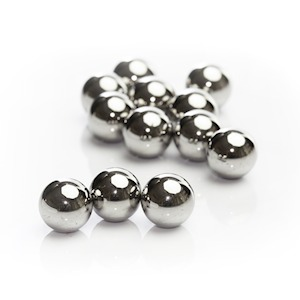ironball: (140, 172, 195, 228), (38, 177, 93, 232), (89, 166, 141, 222), (121, 105, 172, 158), (206, 127, 257, 179), (173, 108, 220, 162), (87, 90, 135, 142), (185, 64, 230, 107), (80, 73, 127, 113), (129, 75, 175, 108), (170, 87, 217, 119), (113, 58, 154, 86)
